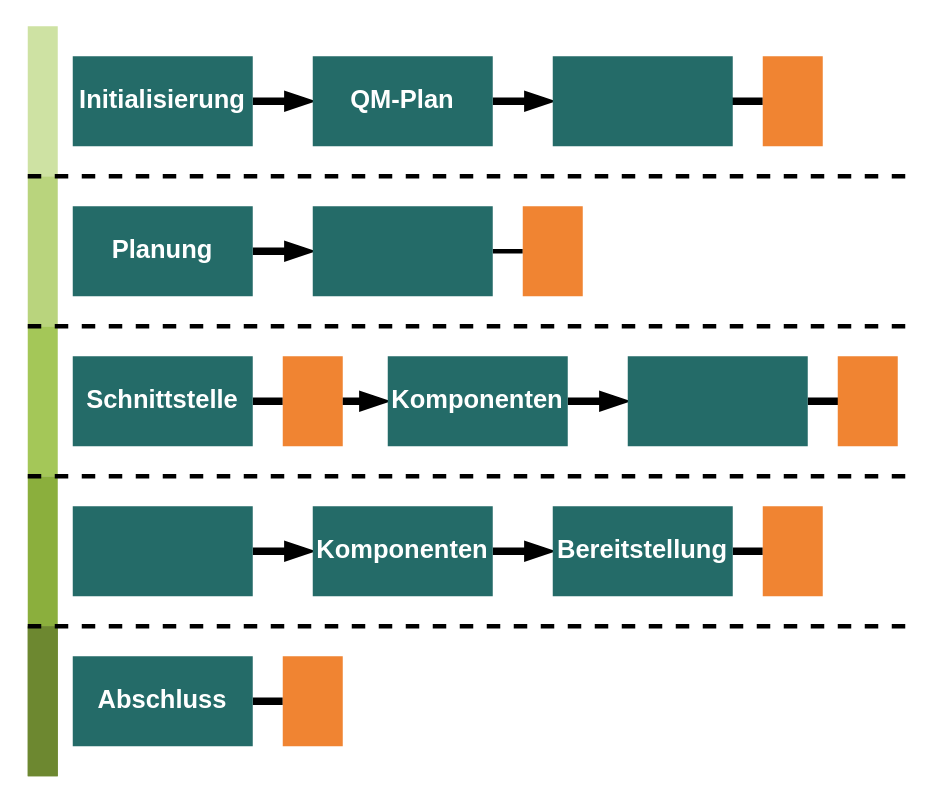
The diagram is 942 pixels wide and 801 high, and some of its shapes have lost their labels. Each missing label, with the box of its shape:
PH: (552, 56, 732, 146)
Rechnung: (312, 206, 492, 296)
Testfälle: (627, 356, 807, 446)
Tests: (72, 506, 252, 596)
